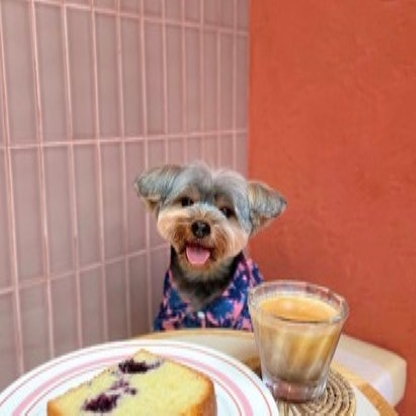yorkshire: (133, 159, 289, 287)
